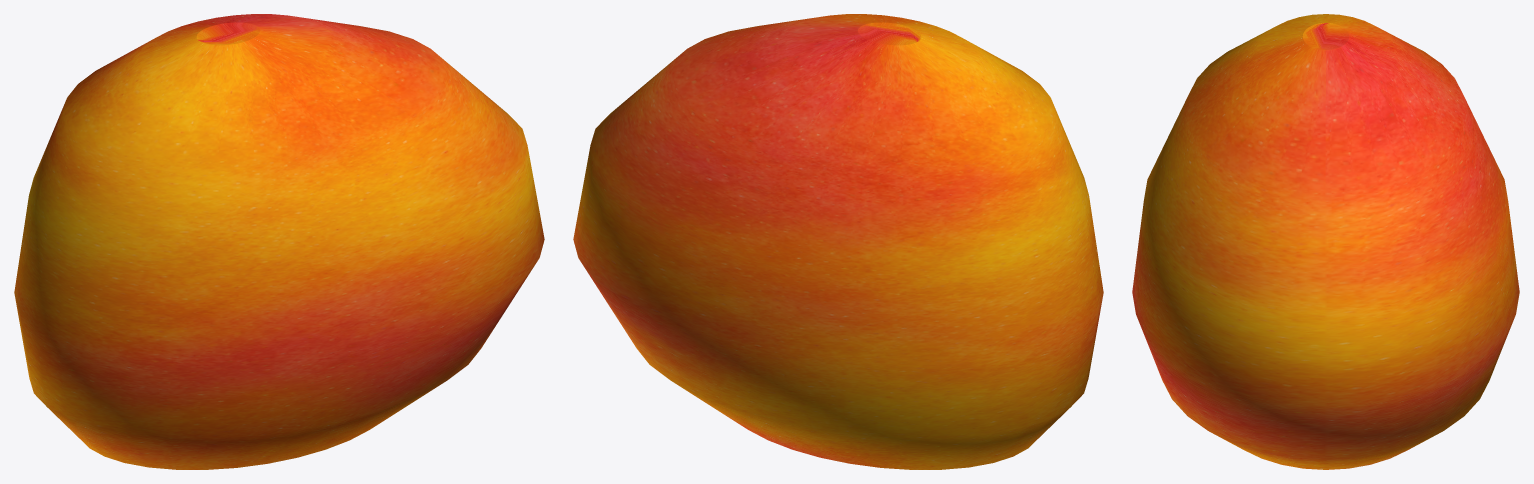
Rendered from mango-qv-M_d8c.glb.
3 views of the same model, side by side, from view 1: azimuth 30°, elevation 25°; view 2: azimuth 150°, elevation 25°; view 3: azimuth 270°, elevation 25° (orthographic). The views are drawn at different scales.
Visible parts, largest first — view 1: FLC_mango; view 2: FLC_mango; view 3: FLC_mango.
Boxes of the visible parts, <box> form: FLC_mango: <box>14,14,544,469</box>; FLC_mango: <box>573,14,1103,469</box>; FLC_mango: <box>1132,14,1519,469</box>.
Bounding box in the file's own units: 1.98 × 1.55 × 1.43.
1 material, 1 textured.
